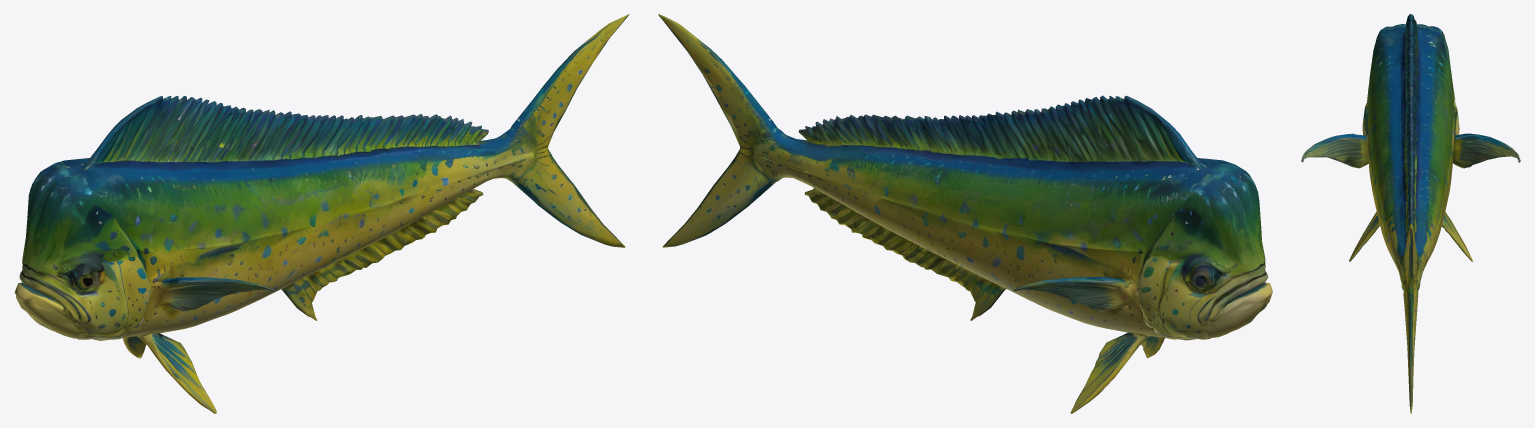
File: fish-korifena.glb
3 renders of one model, left to right at view 1: azimuth 30°, elevation 25°; view 2: azimuth 150°, elevation 25°; view 3: azimuth 270°, elevation 25°, orthographic. The views are drawn at different scales.
Visible parts, largest first — view 1: tripo_node_8ee61582-2f01-4e4b-bb02-8ab508e27921; view 2: tripo_node_8ee61582-2f01-4e4b-bb02-8ab508e27921; view 3: tripo_node_8ee61582-2f01-4e4b-bb02-8ab508e27921.
Boxes of the visible parts, x1,y1,x2,y2 form: tripo_node_8ee61582-2f01-4e4b-bb02-8ab508e27921: (14, 14, 629, 413); tripo_node_8ee61582-2f01-4e4b-bb02-8ab508e27921: (658, 14, 1272, 413); tripo_node_8ee61582-2f01-4e4b-bb02-8ab508e27921: (1301, 14, 1520, 413).
Bounding box in the file's own units: 1 × 0.46 × 0.3854.
Materials: 1 (1 with a texture image).
